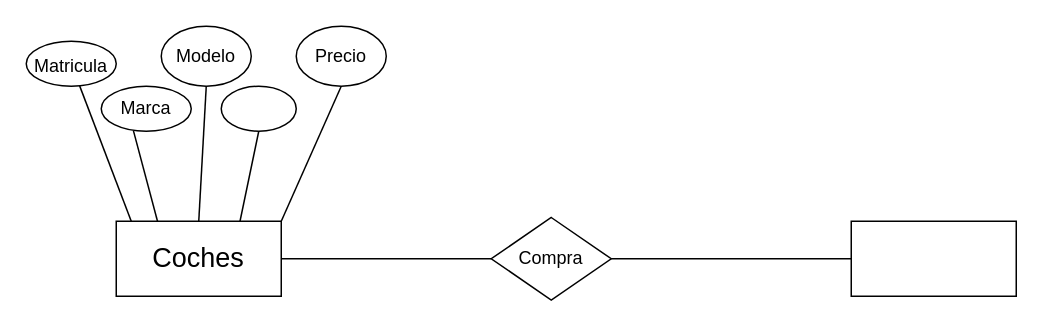
Some shapes in this 1043 by 327 pixel diagram are drawn without their labels. The shapes that lost their labels are listed below. From the top down, each one's centre as x and y in pixels, then its label:
the point at 258,108: Color
the point at 933,258: Clientes
